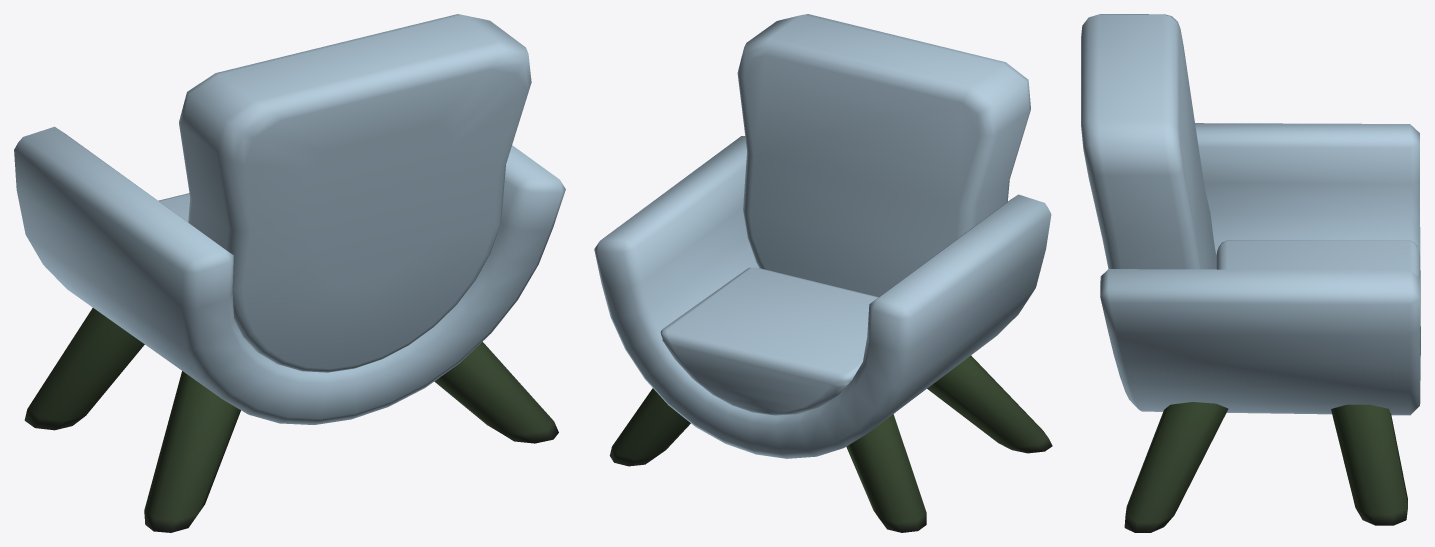
File: Chair_Red.fbx
3 views of the same model, side by side, from view 1: azimuth 30°, elevation 25°; view 2: azimuth 150°, elevation 25°; view 3: azimuth 270°, elevation 25° (orthographic). The views are drawn at different scales.
Parts seen in each view (by area): view 1: Chair; view 2: Chair; view 3: Chair.
Boxes of the visible parts, x1,y1,x2,y2 form: Chair: (14,14,565,532); Chair: (594,14,1052,532); Chair: (1081,14,1420,532).
Size of the model in its own units: 93.55 by 94.76 by 76.57.
